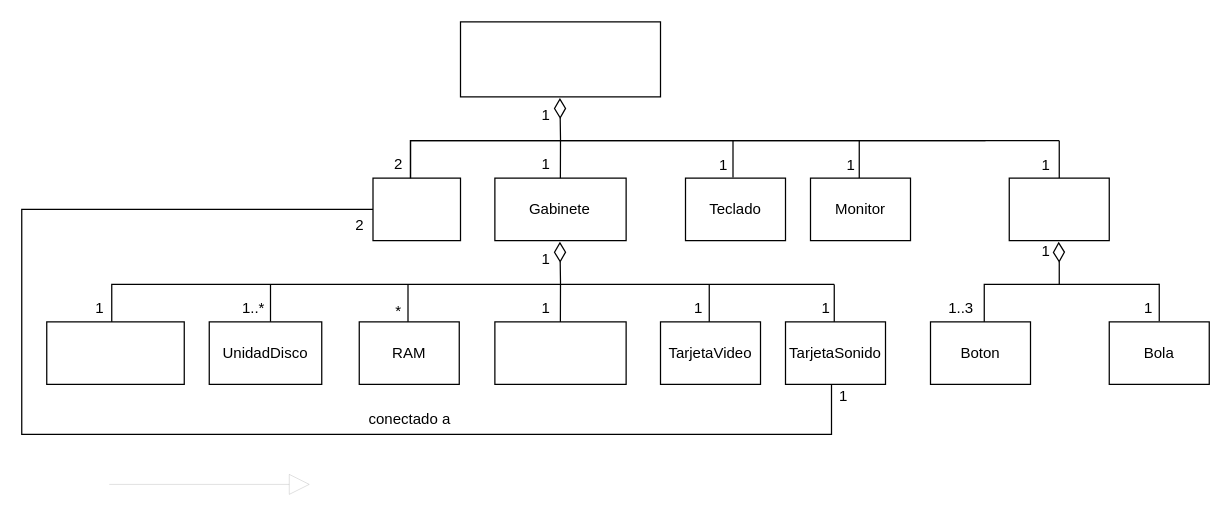
The diagram is 1231 pixels wide and 529 high, and some of its shapes have lost their labels. Here are the shapes that lost their labels. From the top down, the centre of each, then its label:
[559,59]: EquipoDeComputo
[416,209]: Altavoz
[1058,209]: Raton
[115,352]: UnidadDisquete
[560,352]: CD-ROM
